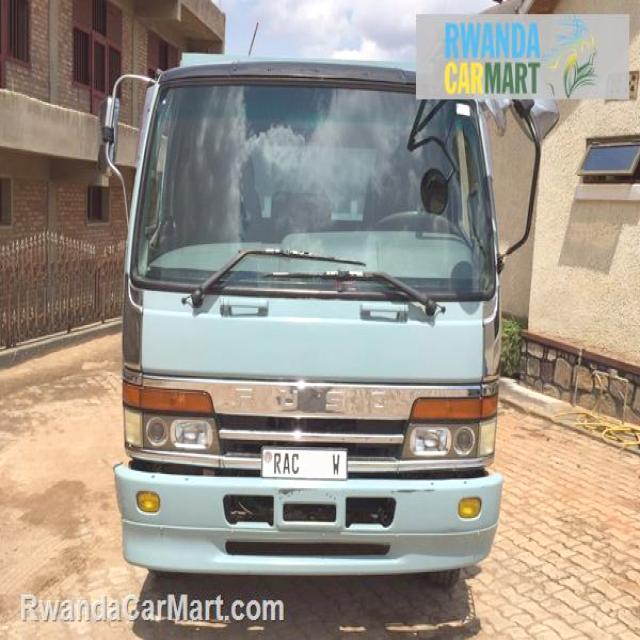truck: (97, 51, 503, 613)
